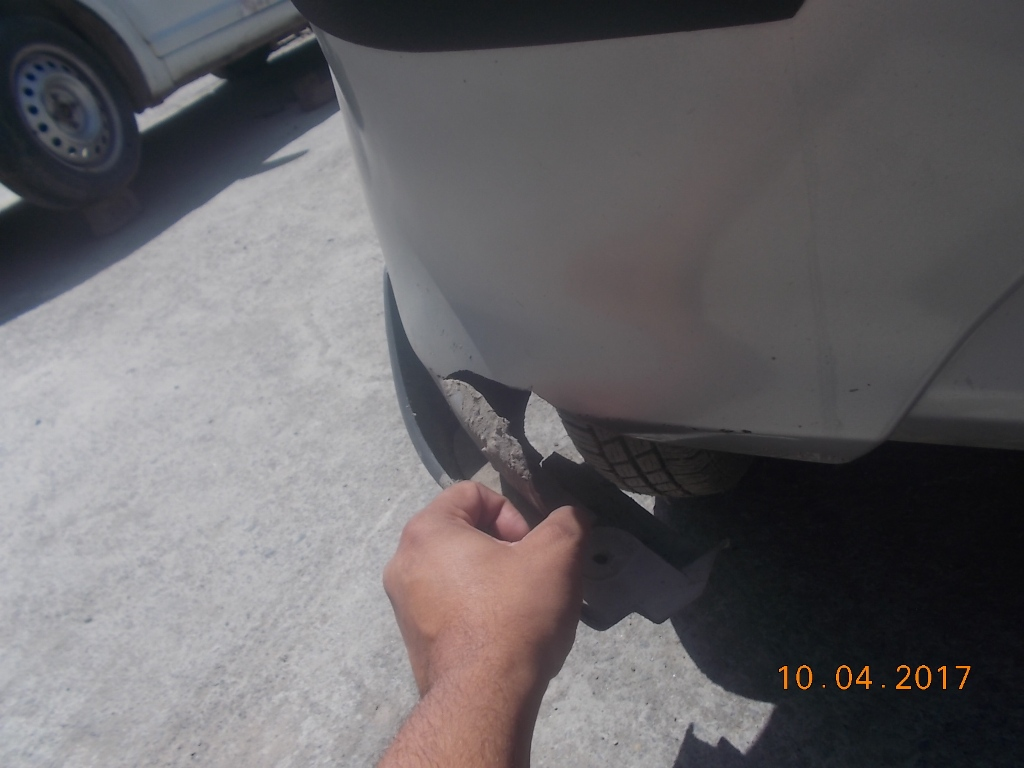Tear: (430, 353, 644, 509)
